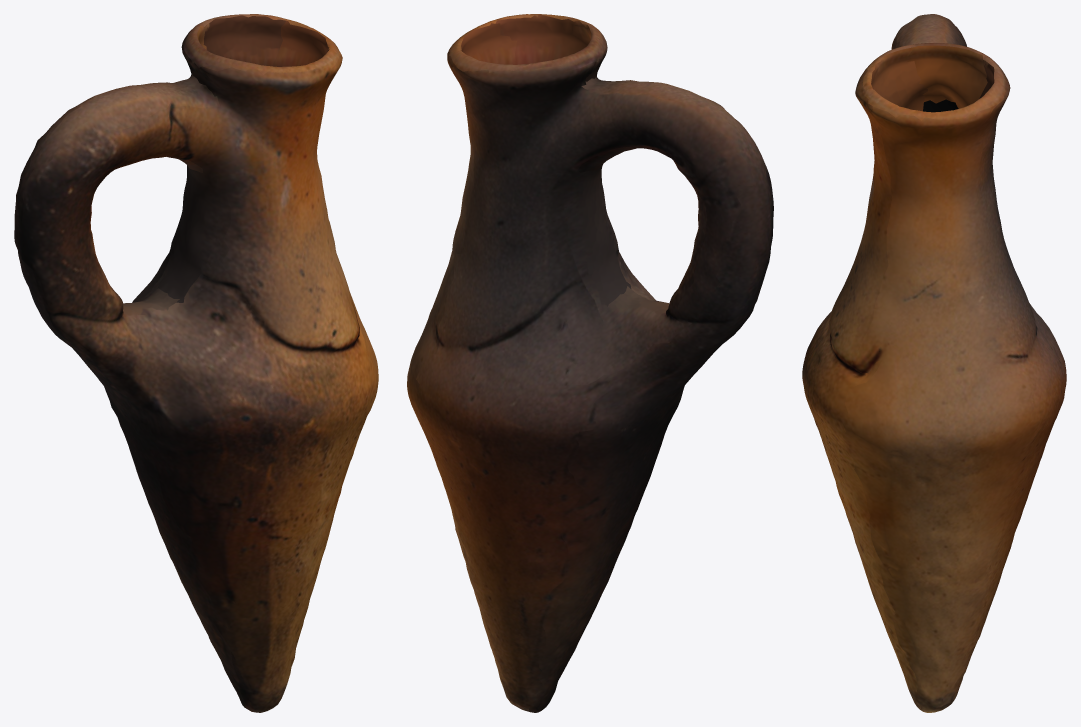
3 renders of one model, left to right at view 1: azimuth 30°, elevation 25°; view 2: azimuth 150°, elevation 25°; view 3: azimuth 270°, elevation 25°, orthographic. The views are drawn at different scales.
Parts seen in each view (by area): view 1: tmpaz653cul.ply; view 2: tmpaz653cul.ply; view 3: tmpaz653cul.ply.
Part boxes in pixels (x1=…): tmpaz653cul.ply: x1=14, y1=14, x2=378, y2=712; tmpaz653cul.ply: x1=407, y1=14, x2=773, y2=712; tmpaz653cul.ply: x1=802, y1=14, x2=1066, y2=712.
Size of the model in its own units: 1.03 by 1.96 by 0.7313.
Materials: 1 (1 with a texture image).
